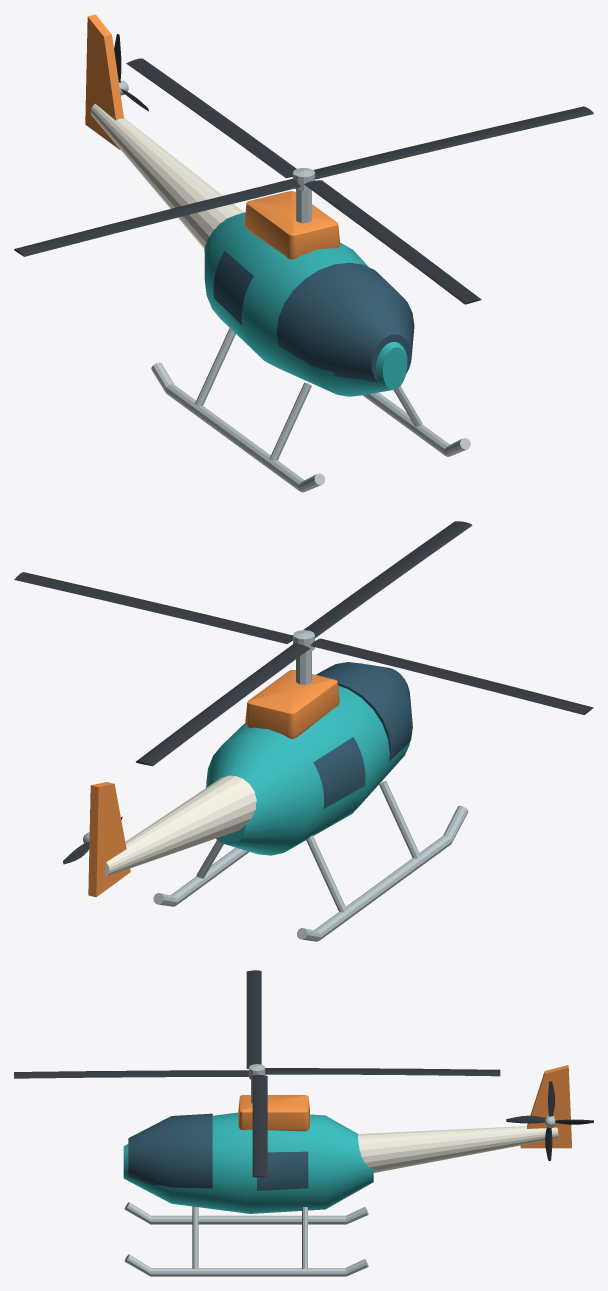
File: utility-helicopter-cc0.glb
3 views of the same model, one above another, from view 1: azimuth 30°, elevation 25°; view 2: azimuth 150°, elevation 25°; view 3: azimuth 270°, elevation 25° (orthographic). The views are drawn at different scales.
Parts seen in each view (by area): view 1: utility-helicopter, main-rotor; view 2: utility-helicopter, main-rotor; view 3: utility-helicopter, main-rotor, tail-rotor.
Boxes of the visible parts, <box> form: utility-helicopter: <box>85,14,470,492</box>; main-rotor: <box>14,58,593,304</box>; utility-helicopter: <box>88,651,468,941</box>; main-rotor: <box>14,521,593,766</box>; utility-helicopter: <box>123,1065,571,1276</box>; main-rotor: <box>14,970,500,1177</box>; tail-rotor: <box>506,1081,593,1160</box>.
Size of the model in its own units: 7.1 by 2.96 by 8.47.
